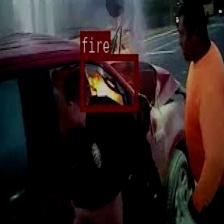fire: (80, 54, 138, 110)
